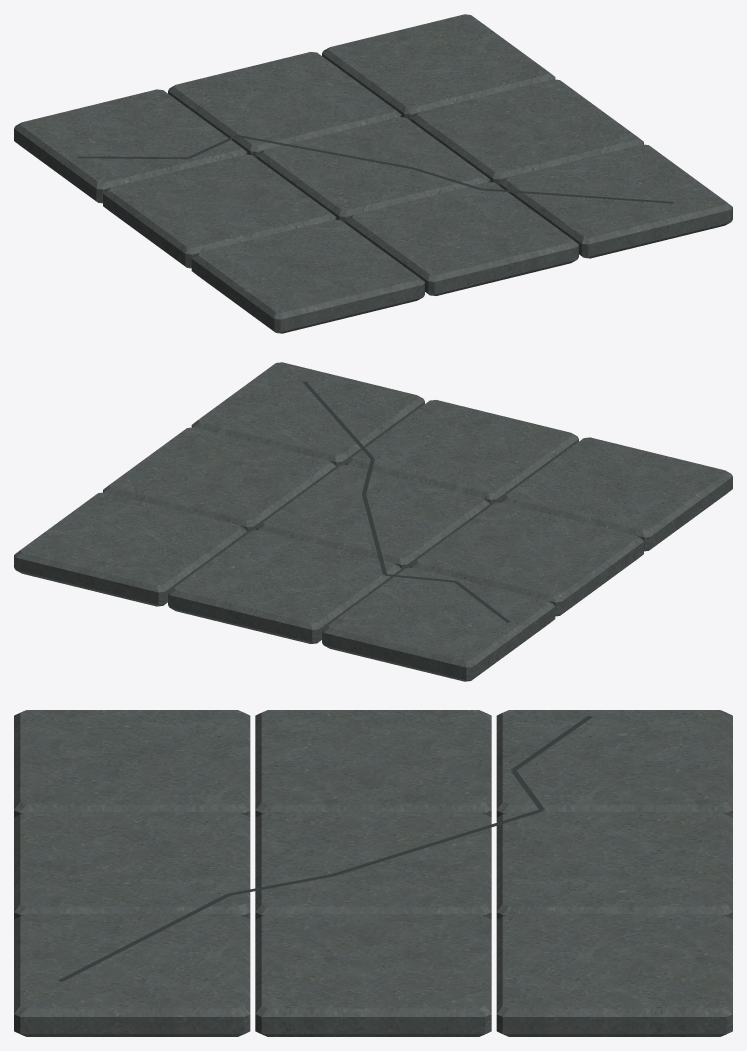
Rendered from source.glb.
The picture shows the model from 3 angles, top to bottom: view 1: azimuth 30°, elevation 25°; view 2: azimuth 150°, elevation 25°; view 3: azimuth 270°, elevation 25°; orthographic projection. The views are drawn at different scales.
Parts seen in each view (by area): view 1: body; view 2: body; view 3: body.
Part boxes in pixels (left/top/right/bottom): body: left=14, top=14, right=732, bottom=333; body: left=14, top=362, right=732, bottom=681; body: left=14, top=710, right=732, bottom=1036.
Bounding box in the file's own units: 2.98 × 0.131 × 2.98.
Materials: 2 (1 with a texture image).
